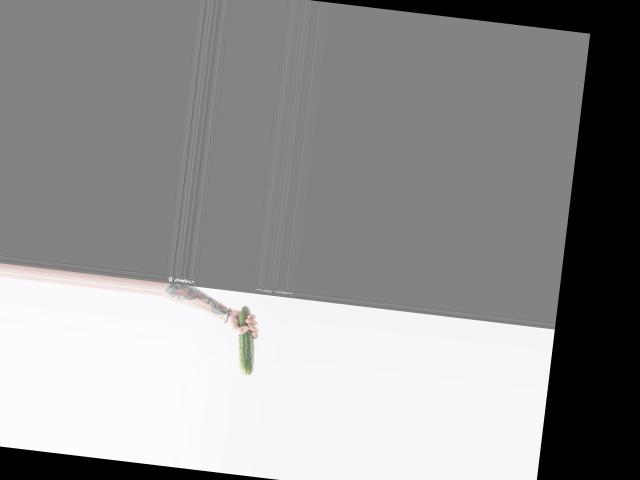cucumber: (232, 305, 261, 376)
